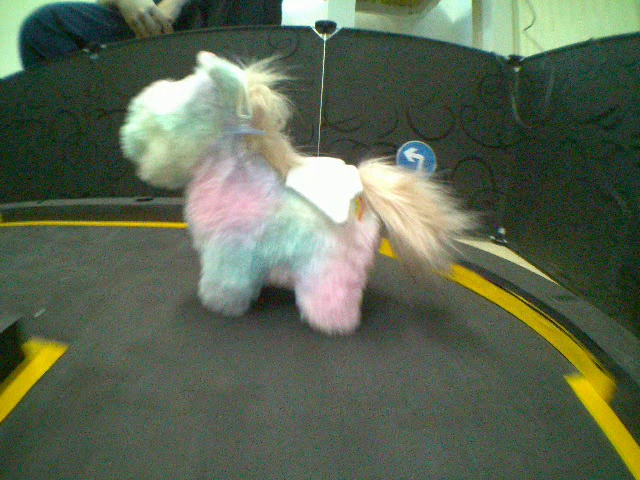unicorn: (107, 49, 484, 340)
